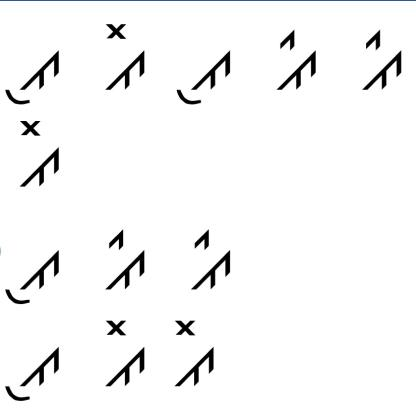kaw: (171, 43, 241, 109), (1, 242, 67, 310), (4, 340, 64, 406), (5, 44, 64, 106)
ki: (182, 224, 239, 297), (268, 26, 322, 98), (99, 220, 149, 295), (354, 23, 405, 94)
ko: (92, 14, 153, 98), (168, 315, 224, 394), (13, 117, 70, 193), (106, 315, 147, 392)
